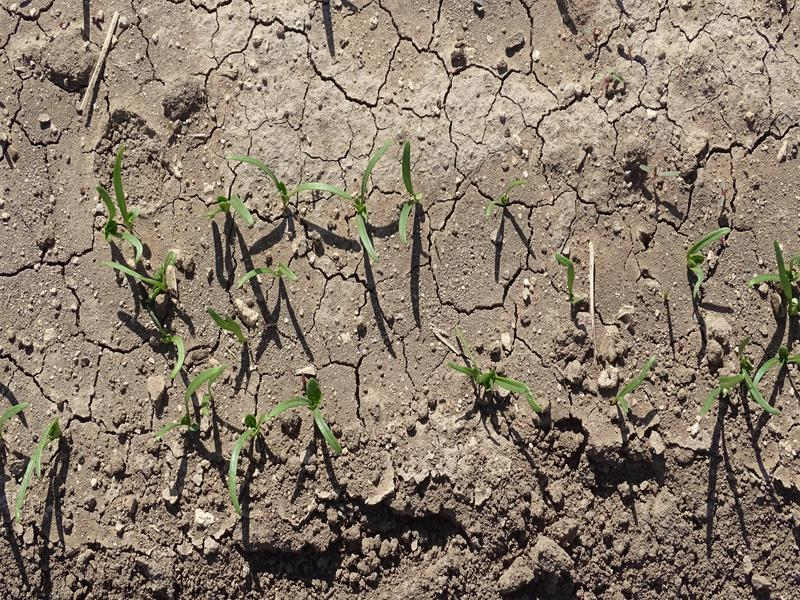Espinaca: (242, 147, 424, 249), (226, 382, 337, 510), (150, 316, 218, 444), (88, 155, 152, 251), (15, 411, 62, 518), (450, 356, 541, 411), (703, 355, 785, 416), (98, 253, 187, 296), (753, 245, 800, 307), (614, 358, 659, 415), (686, 225, 719, 297), (237, 259, 302, 290), (486, 180, 525, 218)
